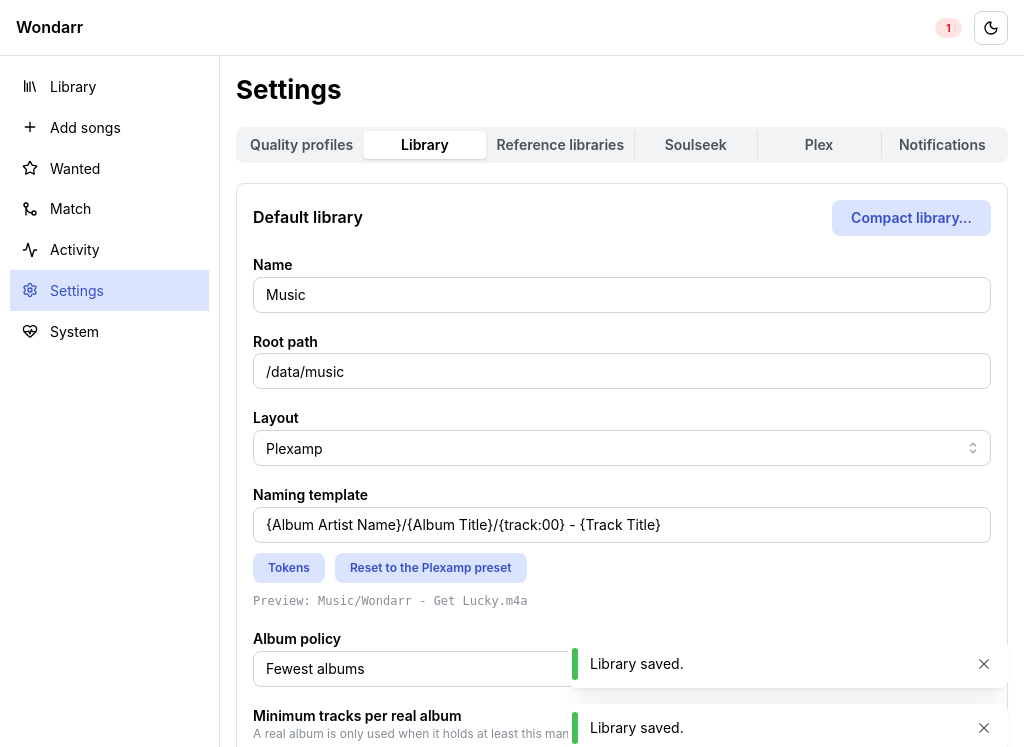
Scenario: LibrarySettingsPage naming template › inserts a token from the helper at the cursor
The image size is (1024, 747).
Expected: the field showing "Music" is shown, [253,277,991,313]
Step 1. Click the button "Tokens" → (289, 568), box [253,553,325,583]
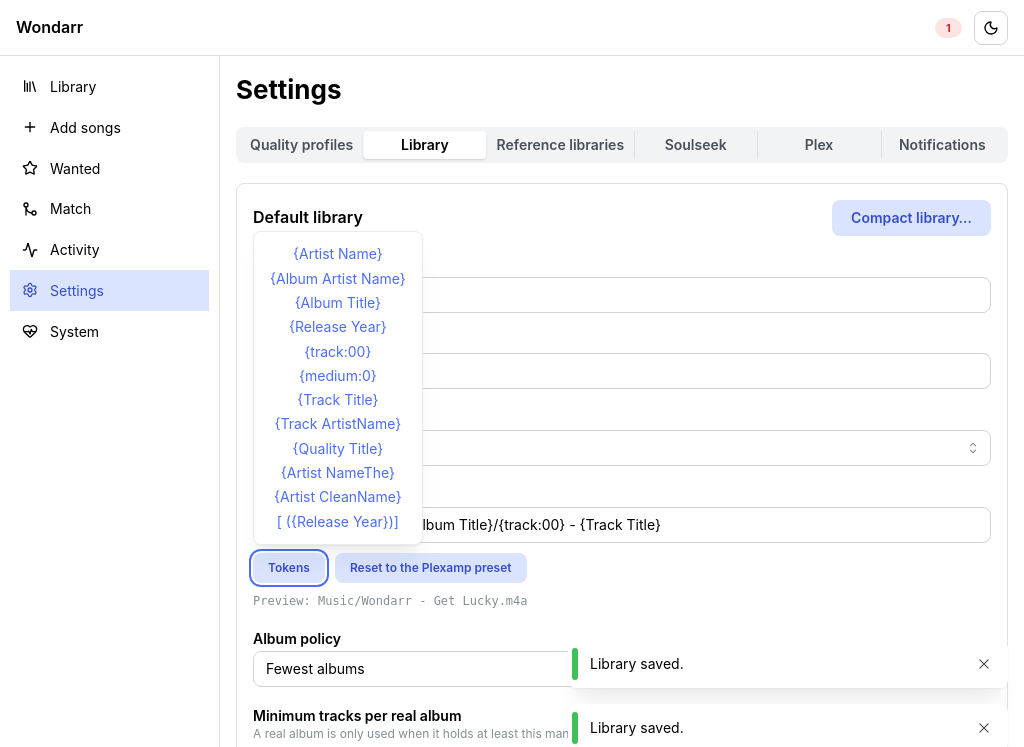
Step 2. Click the button "{Release Year}" → (338, 327), box [270,317,406,338]
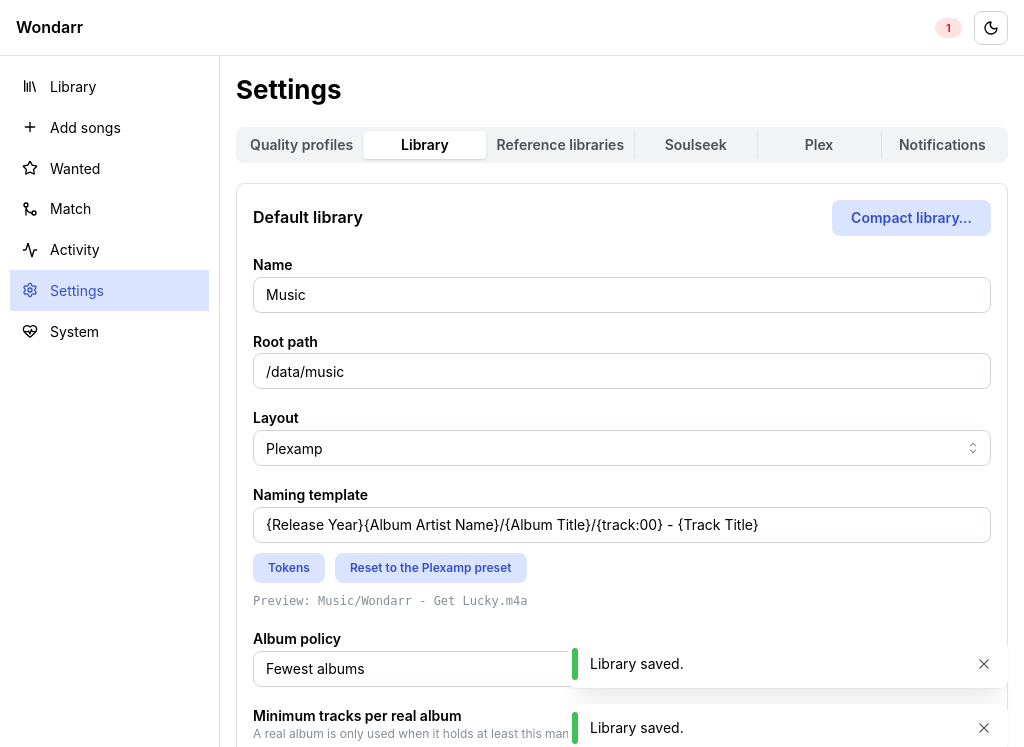
Expected: the field labelled "Naming template" holds "{Release Year}{Album Artist Name}/{Album Title}/{track:00} - {Track Title}", [253,507,991,543]
